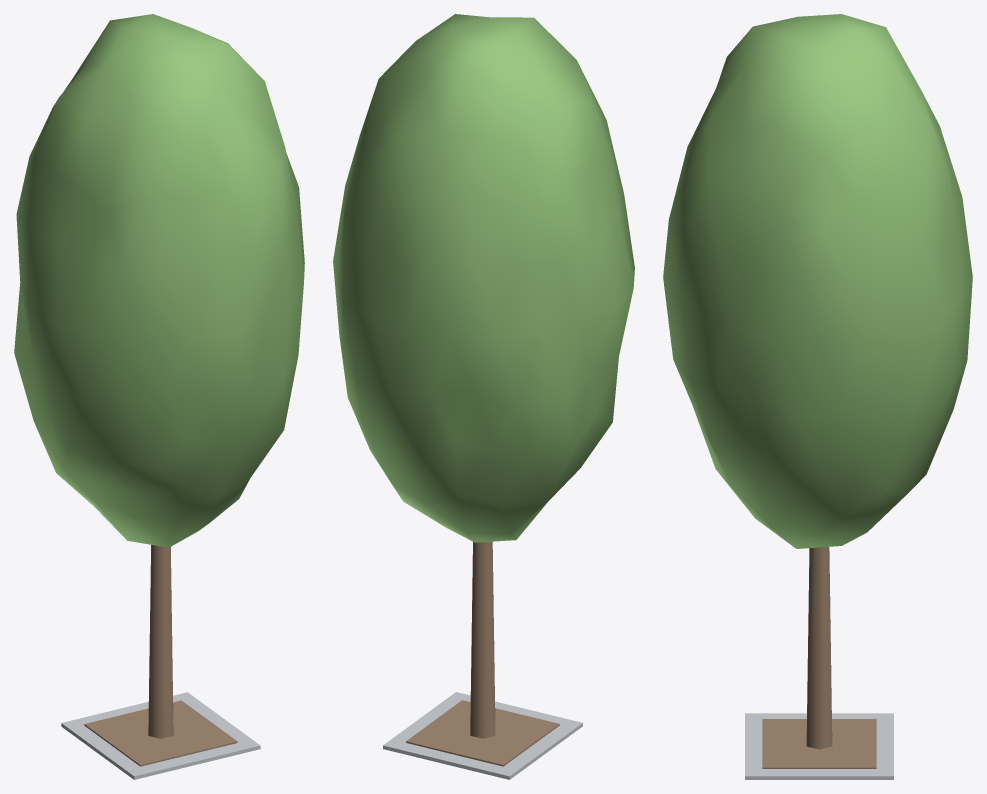
Rendered from tree_street_c.glb.
3 views of the same model, side by side, from view 1: azimuth 30°, elevation 25°; view 2: azimuth 150°, elevation 25°; view 3: azimuth 270°, elevation 25° (orthographic). The views are drawn at different scales.
Parts seen in each view (by area): view 1: tree_street_c; view 2: tree_street_c; view 3: tree_street_c.
Boxes of the visible parts, x1=… form: tree_street_c: x1=14, y1=14, x2=304, y2=779; tree_street_c: x1=333, y1=14, x2=634, y2=779; tree_street_c: x1=663, y1=14, x2=972, y2=779.
Size of the model in its own units: 2.67 by 6.96 by 2.7.
